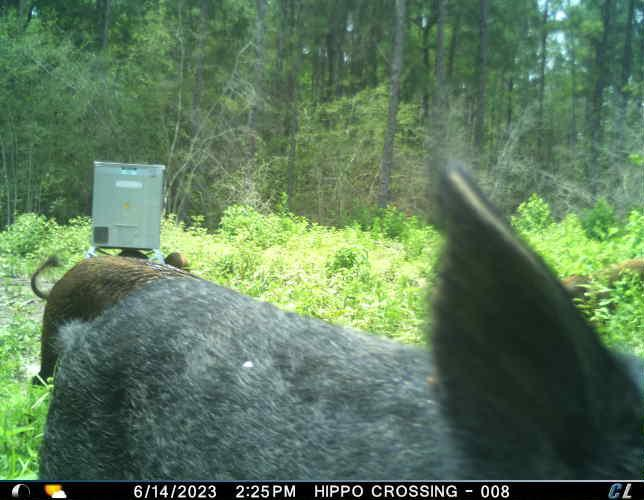Hog: (37, 147, 644, 480), (31, 253, 189, 389)
